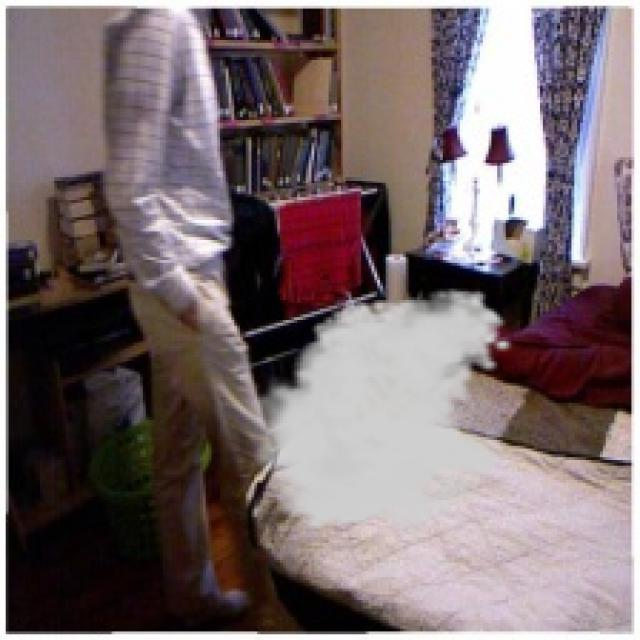Smoke: (240, 286, 514, 546)
